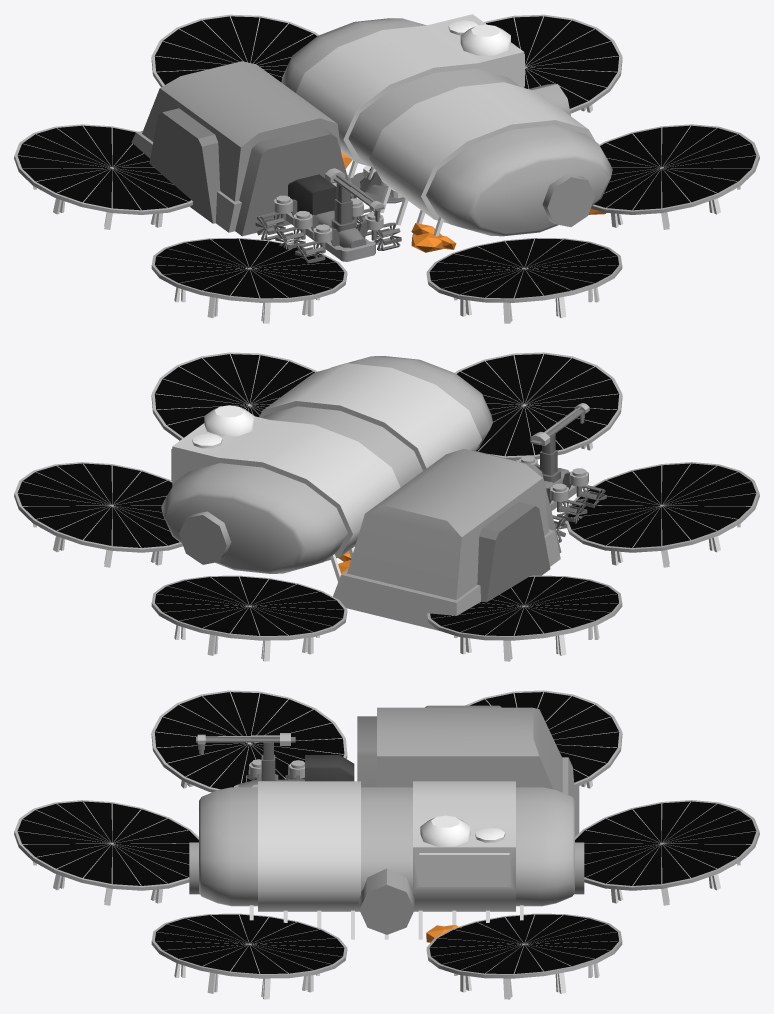
The model's file is NuclearReactor.glb.
3 renders of one model, top to bottom at view 1: azimuth 30°, elevation 25°; view 2: azimuth 150°, elevation 25°; view 3: azimuth 270°, elevation 25°, orthographic.
Visible parts, largest first — view 1: Circle.003, Cylinder.010, Cube.015, Cube.043, Cube.022, Tunnel.005, Cylinder.026, Cube.026, Cube.018, Cube.023, Cube.025, Cube.045 (+3 smaller); view 2: Circle.003, Cylinder.010, Cube.015, Tunnel.005, Cylinder.026, Cube.023, Cube.026; view 3: Circle.003, Cylinder.010, Cube.015, Tunnel.005, Cylinder.026, Cube.022, Cube.043, Cube.045, Cube.023.
Part boxes in pixels (x1,y1,x2,y2): Circle.003: [14, 14, 759, 323]; Cylinder.010: [281, 14, 612, 236]; Cube.015: [131, 61, 353, 232]; Cube.043: [235, 127, 353, 236]; Cube.022: [286, 174, 375, 261]; Tunnel.005: [528, 84, 594, 226]; Cylinder.026: [448, 20, 510, 55]; Cube.026: [303, 212, 392, 256]; Cube.018: [295, 222, 401, 263]; Cube.023: [331, 183, 355, 232]; Cube.025: [283, 198, 363, 243]; Cube.045: [348, 160, 443, 236]; Circle.003: [14, 352, 759, 661]; Cylinder.010: [161, 356, 492, 573]; Cube.015: [333, 449, 560, 630]; Tunnel.005: [179, 511, 231, 564]; Cylinder.026: [192, 405, 254, 448]; Cube.023: [540, 434, 560, 482]; Cube.026: [519, 455, 598, 500]; Circle.003: [14, 690, 759, 999]; Cylinder.010: [199, 781, 574, 911]; Cube.015: [377, 705, 579, 836]; Tunnel.005: [189, 842, 584, 934]; Cylinder.026: [420, 815, 505, 846]; Cube.022: [234, 755, 354, 787]; Cube.043: [357, 716, 376, 787]; Cube.045: [249, 905, 523, 939]; Cube.023: [258, 742, 278, 781].
Size of the model in its own units: 6.81 by 1.39 by 7.56.
2 materials, 2 textured.
